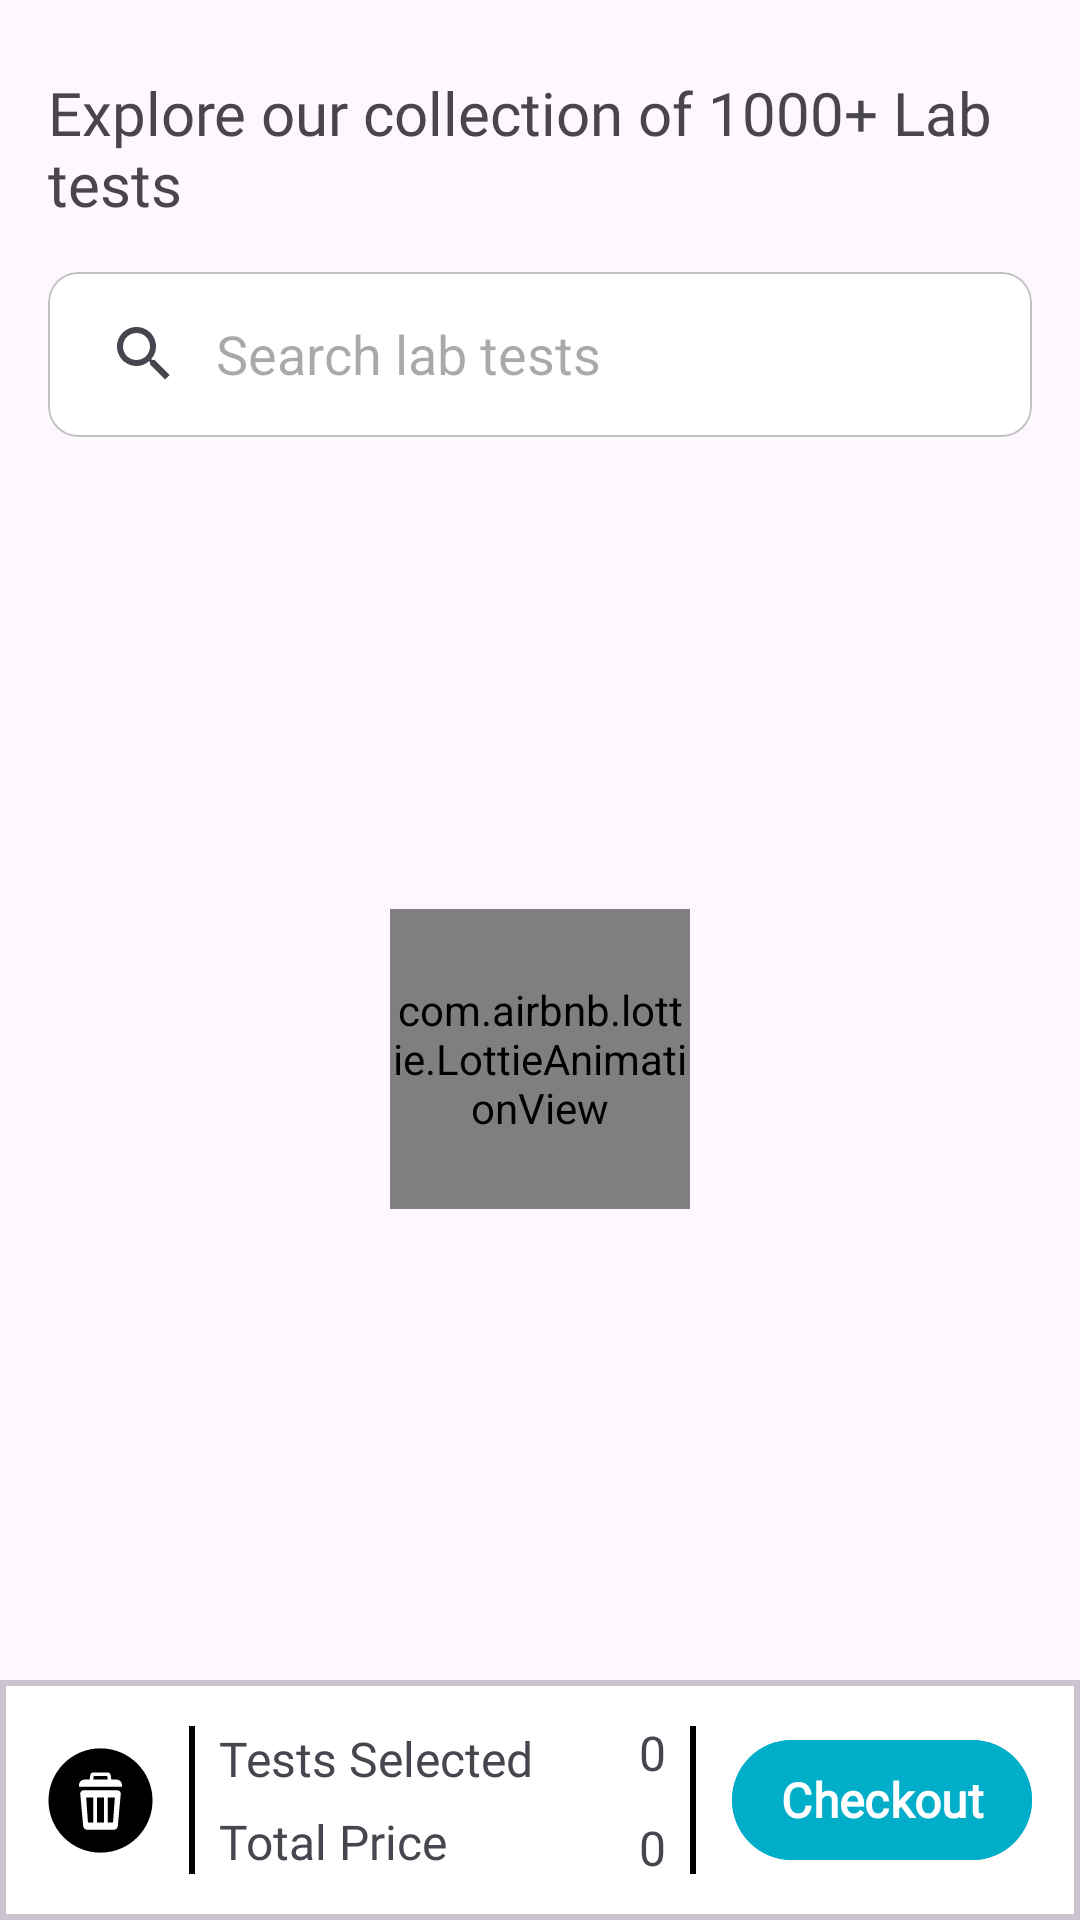

Icons on this 1080*1920 Android screen, each with the point to tap as [x,y]:
delete: [100,1800]
